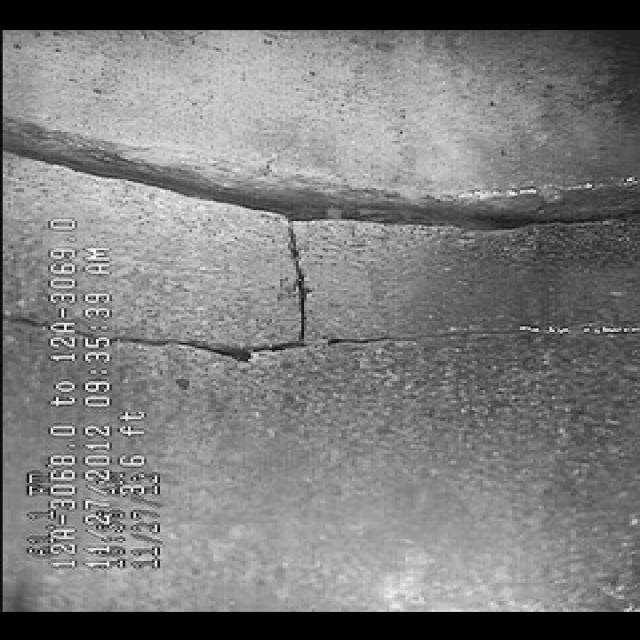Crack: (150, 217, 632, 375)
